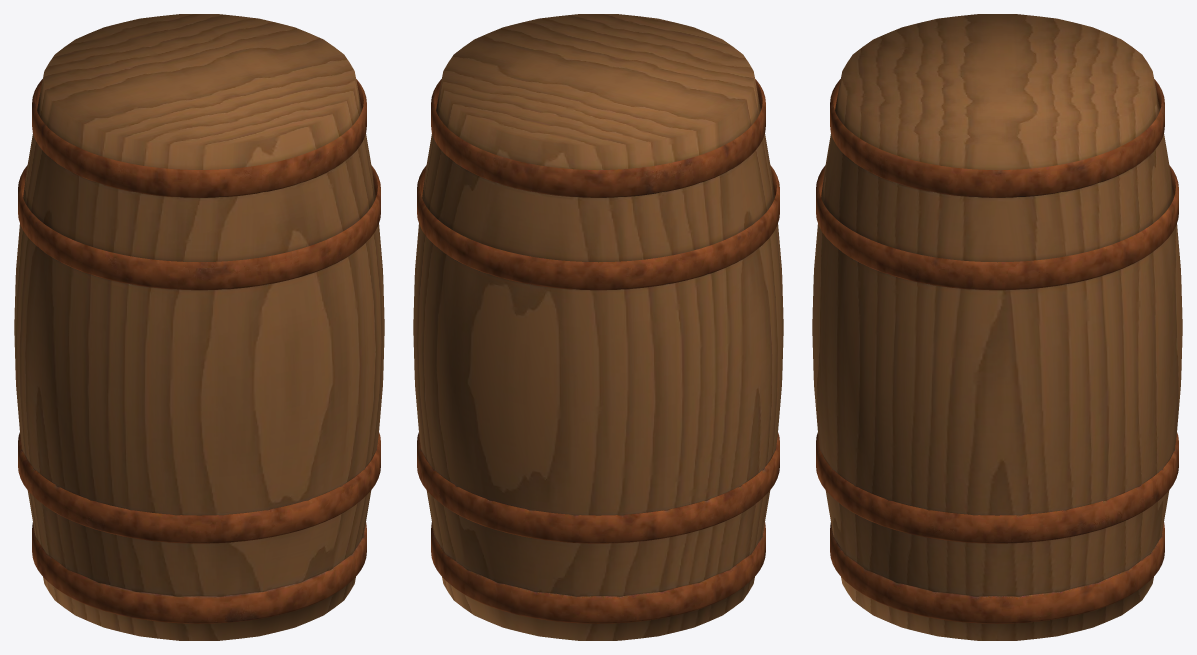
File: oak.glb
The picture shows the model from 3 angles, left to right: view 1: azimuth 30°, elevation 25°; view 2: azimuth 150°, elevation 25°; view 3: azimuth 270°, elevation 25°; orthographic projection.
Visible parts, largest first — view 1: barrel_wood, iron_hoop; view 2: barrel_wood, iron_hoop; view 3: barrel_wood, iron_hoop.
Part boxes in pixels (x1,y1,x2,y2): barrel_wood: [14, 14, 384, 640]; iron_hoop: [18, 79, 380, 623]; barrel_wood: [413, 14, 783, 640]; iron_hoop: [417, 79, 779, 623]; barrel_wood: [812, 14, 1182, 640]; iron_hoop: [816, 79, 1178, 623].
Size of the model in its own units: 0.5964 by 0.88 by 0.5964.
Materials: 2 (2 with a texture image).
